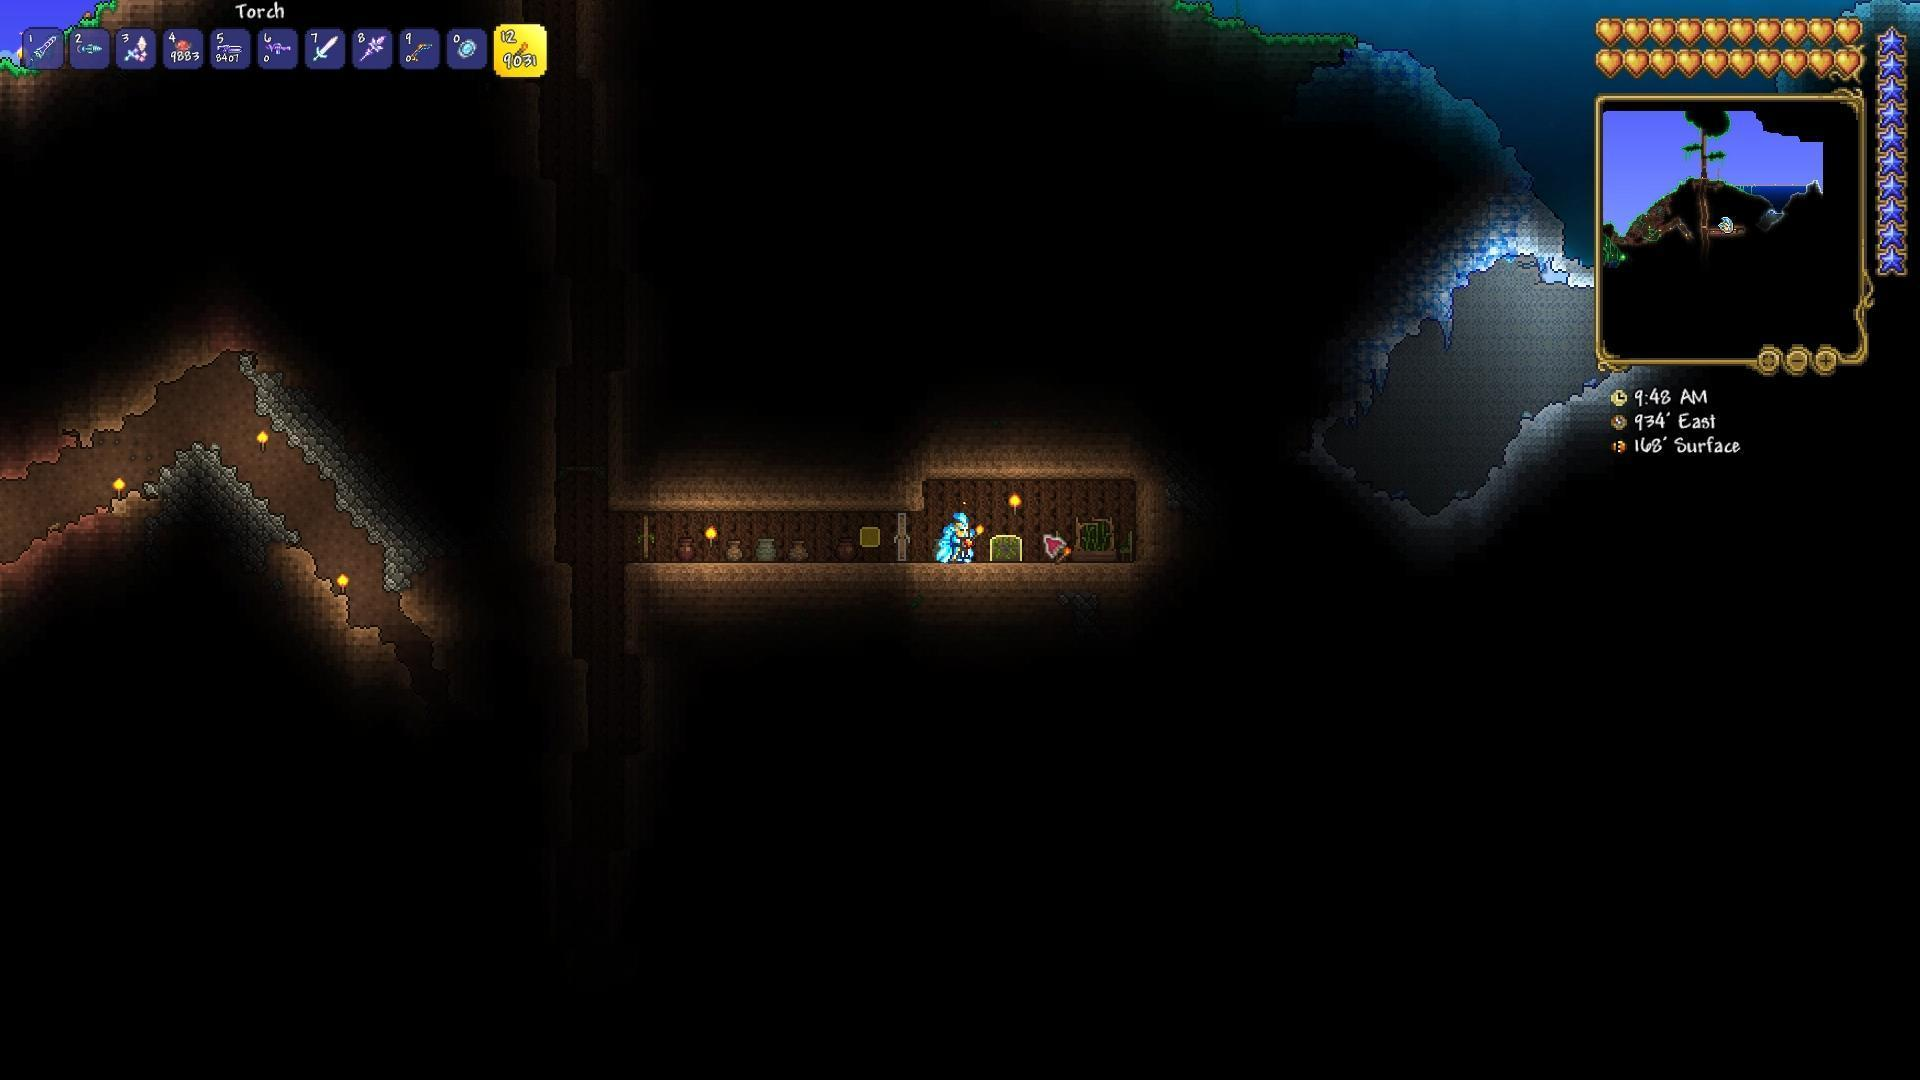chest: (988, 530, 1026, 563)
